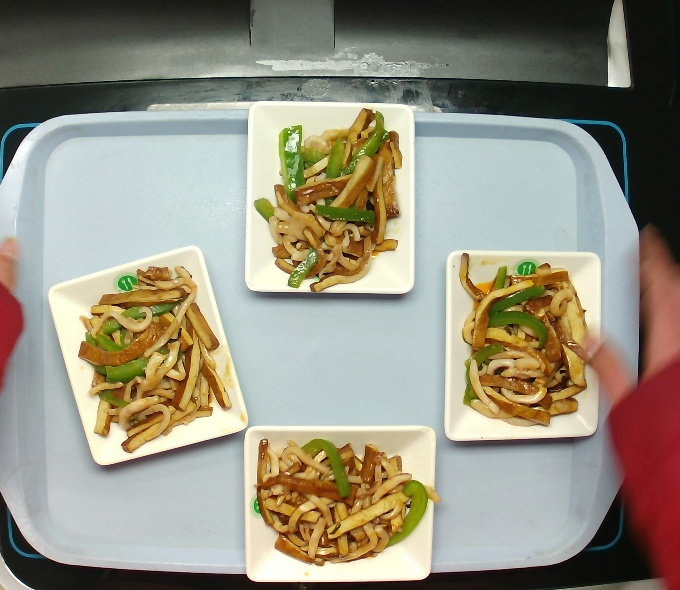wcq-XiangGanYouYu: (68, 260, 232, 455), (445, 255, 614, 432), (260, 102, 406, 301), (249, 424, 429, 569)
